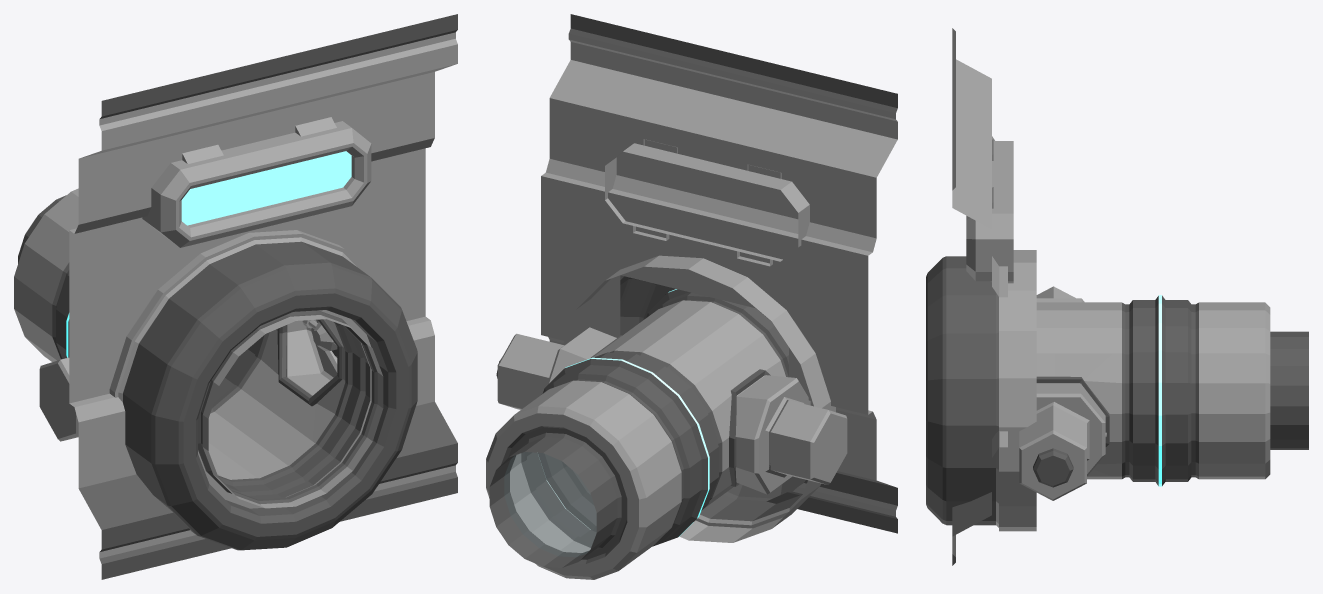
Rendered from SM_PodInterior.fbx.
The picture shows the model from 3 angles, left to right: view 1: azimuth 30°, elevation 25°; view 2: azimuth 150°, elevation 25°; view 3: azimuth 270°, elevation 25°; orthographic projection. The views are drawn at different scales.
Parts seen in each view (by area): view 1: SM_WallSectionPodOpen, SM_PodInterior; view 2: SM_WallSectionPodOpen, SM_PodInterior; view 3: SM_PodInterior, SM_WallSectionPodOpen, SM_PodInteriorFilter.
Boxes of the visible parts, x1=… form: SM_WallSectionPodOpen: x1=69, y1=14, x2=457, y2=579; SM_PodInterior: x1=14, y1=188, x2=383, y2=508; SM_WallSectionPodOpen: x1=541, y1=14, x2=897, y2=542; SM_PodInterior: x1=486, y1=289, x2=847, y2=579; SM_PodInterior: x1=1019, y1=286, x2=1308, y2=500; SM_WallSectionPodOpen: x1=926, y1=28, x2=1036, y2=565; SM_PodInteriorFilter: x1=1033, y1=448, x2=1073, y2=487.
Bounding box in the file's own units: 207 × 265 × 215.
